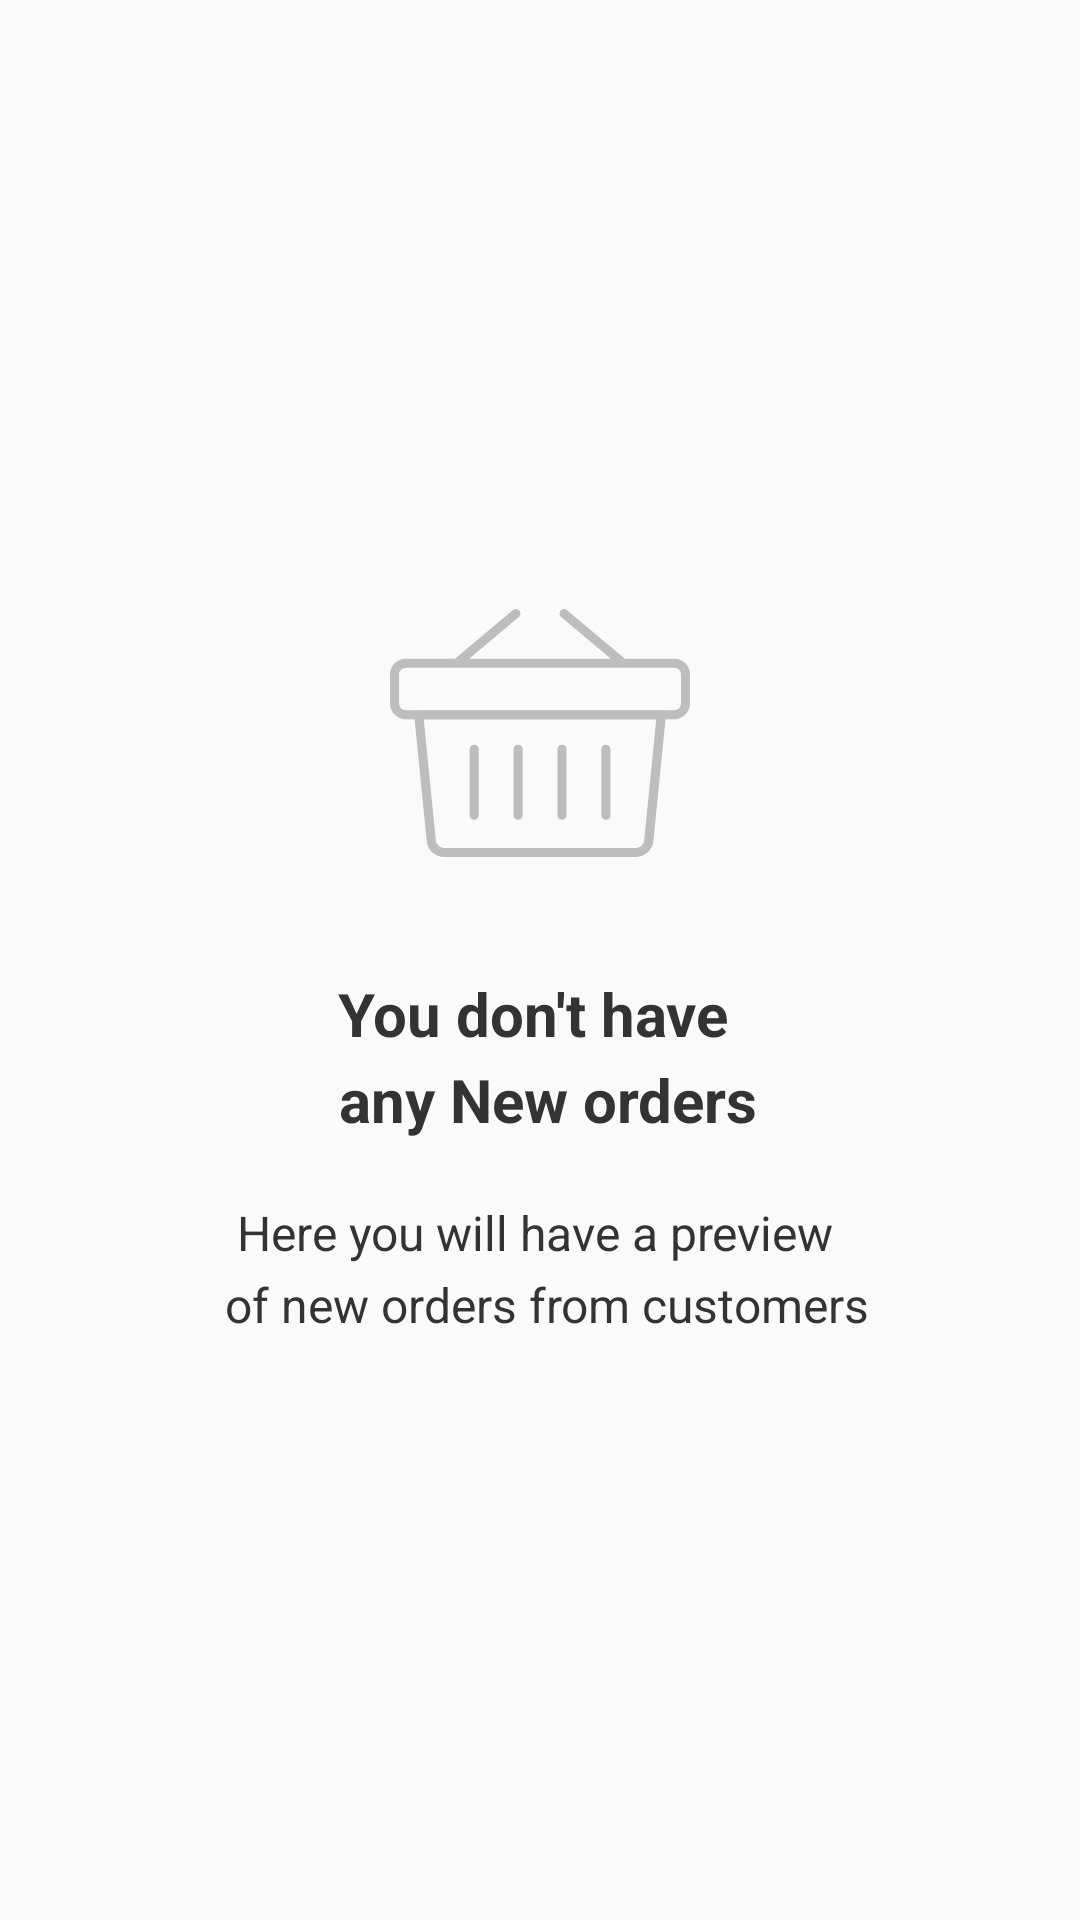

Screen size 1080px x 1920px. Icon name, then its box in pixels as {"x1": x1, "y1": y1, "x2": x2, "y2": y2}:
order empty: {"x1": 390, "y1": 609, "x2": 690, "y2": 857}
